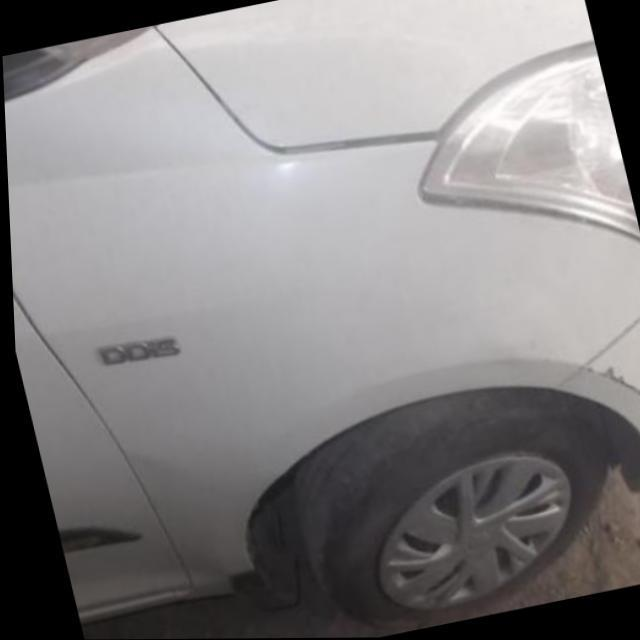crack: (578, 365, 640, 403)
